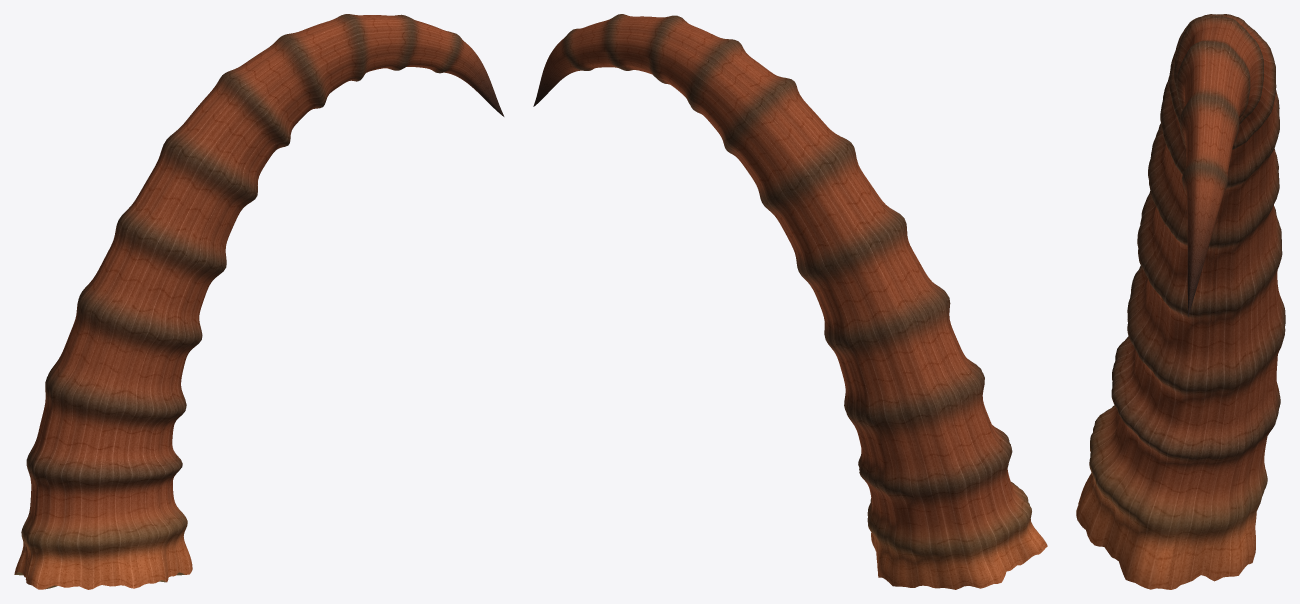
Rendered from emberhorn.glb.
3 renders of one model, left to right at view 1: azimuth 30°, elevation 25°; view 2: azimuth 150°, elevation 25°; view 3: azimuth 270°, elevation 25°, orthographic. The views are drawn at different scales.
Visible parts, largest first — view 1: emberhorn natural keratin; view 2: emberhorn natural keratin; view 3: emberhorn natural keratin.
Boxes of the visible parts, x1,y1,x2,y2 form: emberhorn natural keratin: [14, 14, 504, 589]; emberhorn natural keratin: [533, 14, 1047, 589]; emberhorn natural keratin: [1076, 14, 1285, 589].
Size of the model in its own units: 0.7282 by 0.7041 by 0.1977.
Materials: 3 (3 with a texture image).
